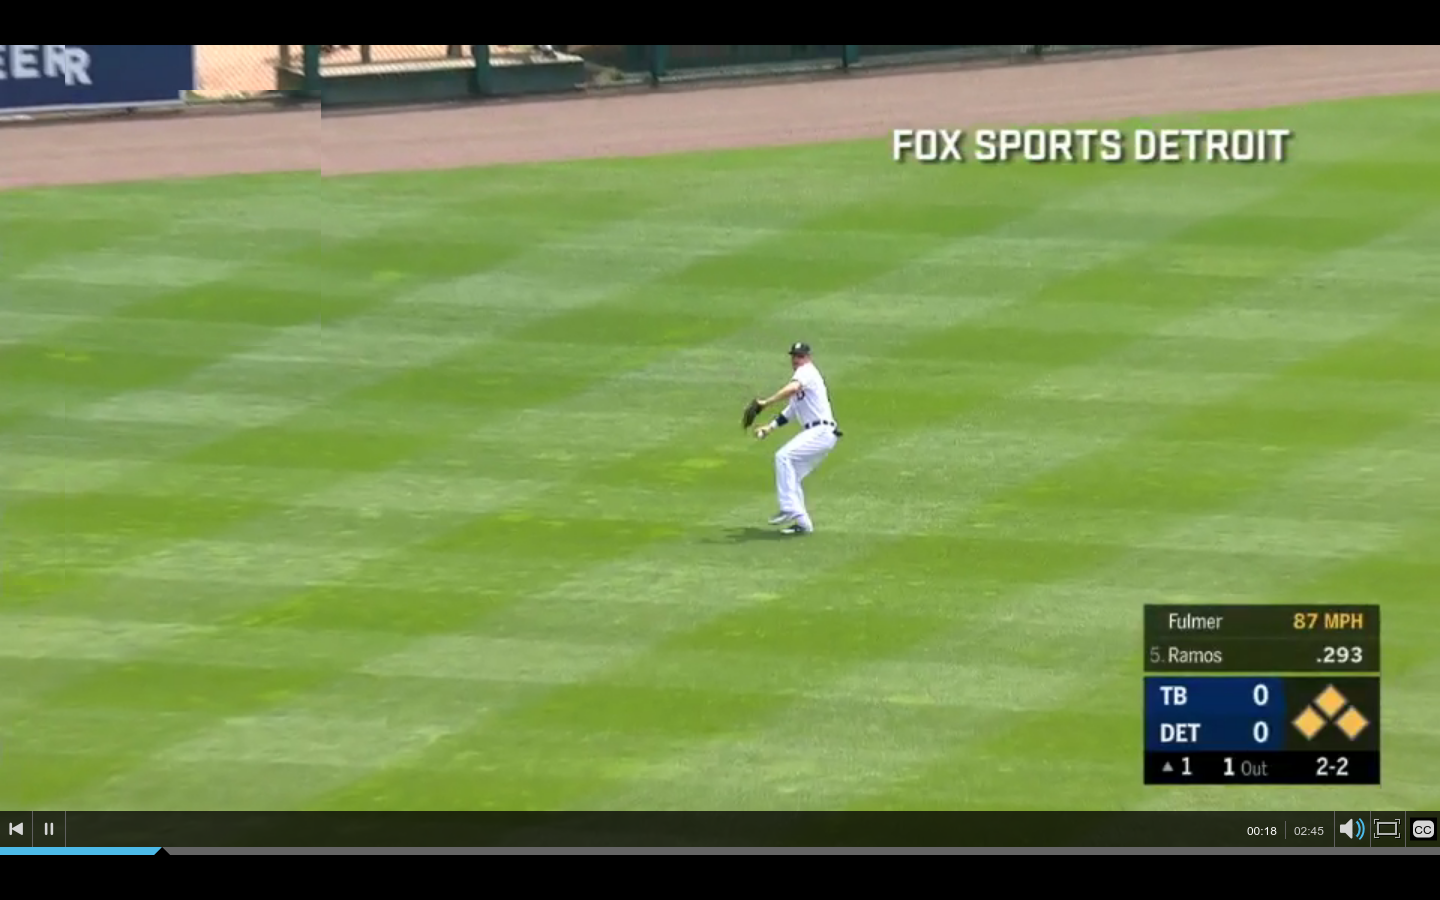baseball: (755, 425, 768, 443)
baseball player: (739, 340, 848, 542)
